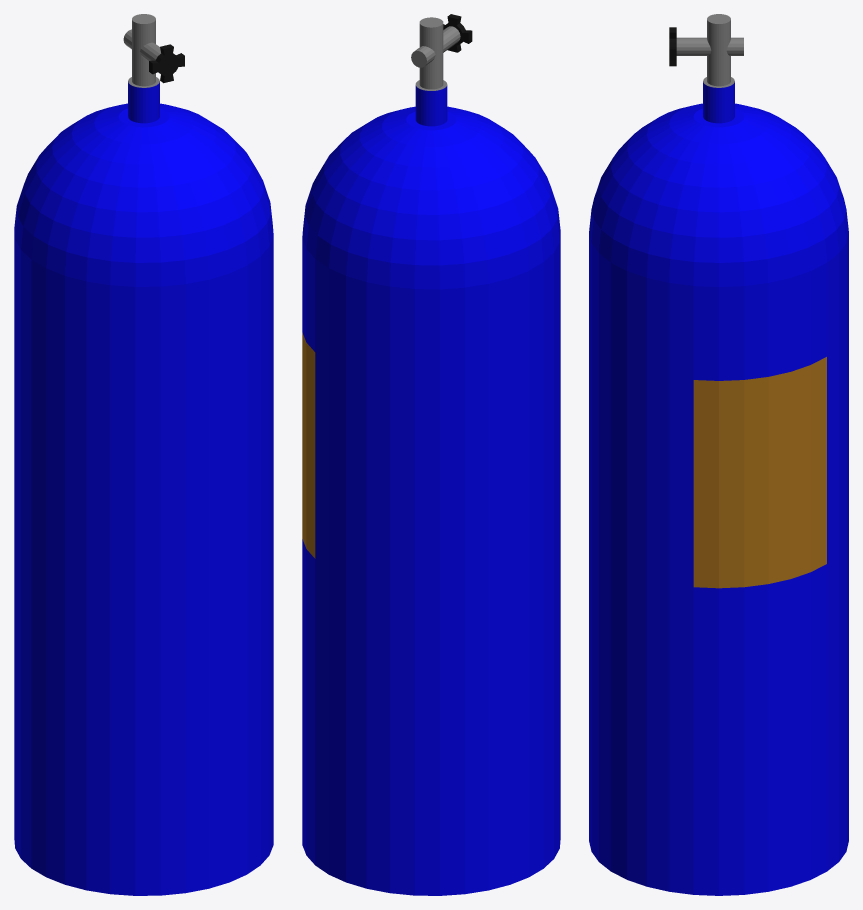
The model's file is nitro.fbx.
3 renders of one model, left to right at view 1: azimuth 30°, elevation 25°; view 2: azimuth 150°, elevation 25°; view 3: azimuth 270°, elevation 25°, orthographic.
Visible parts, largest first — view 1: Cylinder; view 2: Cylinder; view 3: Cylinder.
Part boxes in pixels (left/top/right/bottom): Cylinder: left=14, top=14, right=273, bottom=895; Cylinder: left=302, top=14, right=560, bottom=895; Cylinder: left=589, top=14, right=848, bottom=895.
Size of the model in its own units: 200 by 698 by 200.
